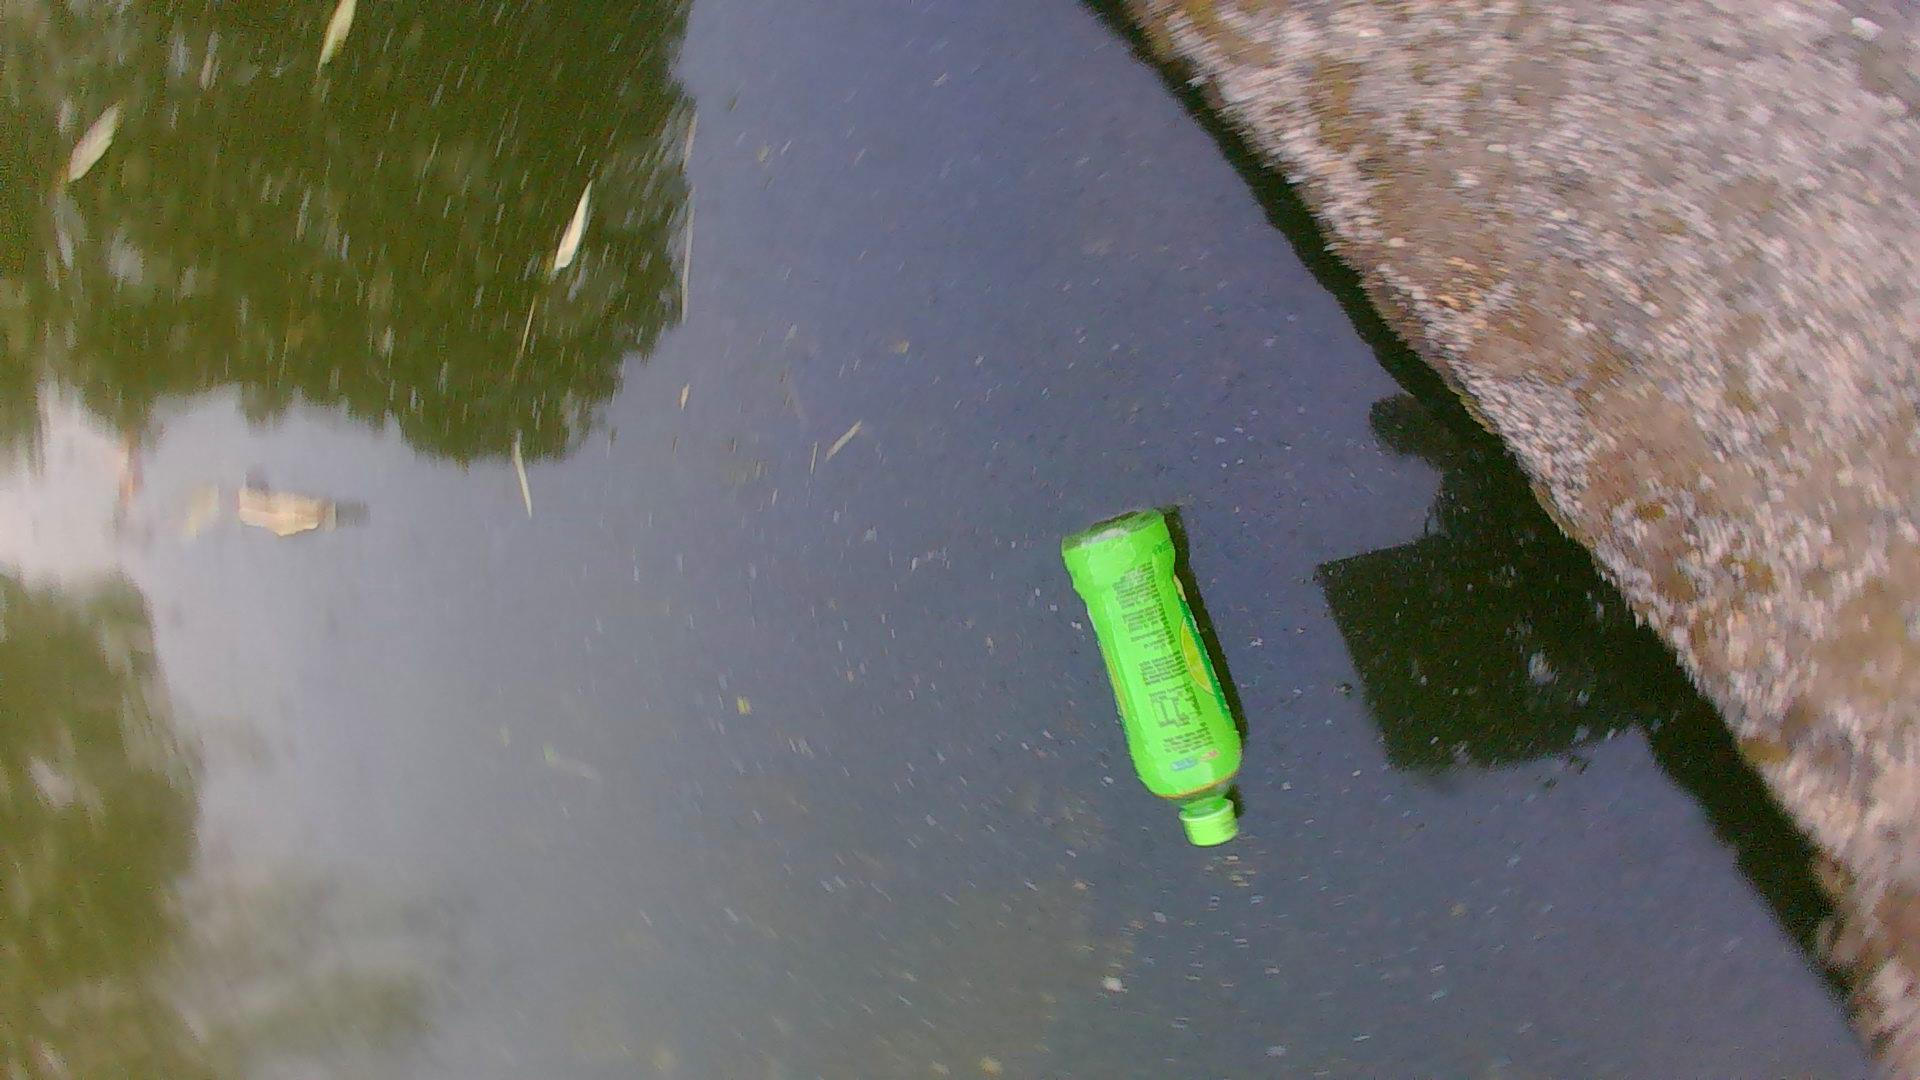Plastic: (1050, 506, 1266, 856)
